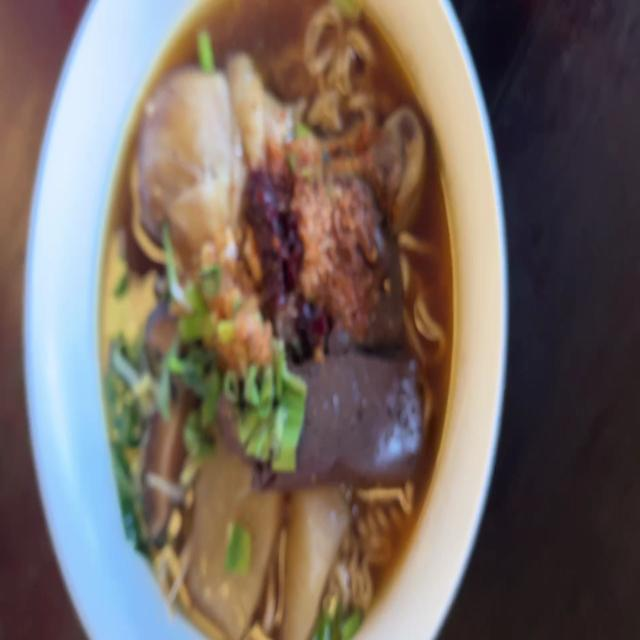noodle: (88, 0, 452, 640)
